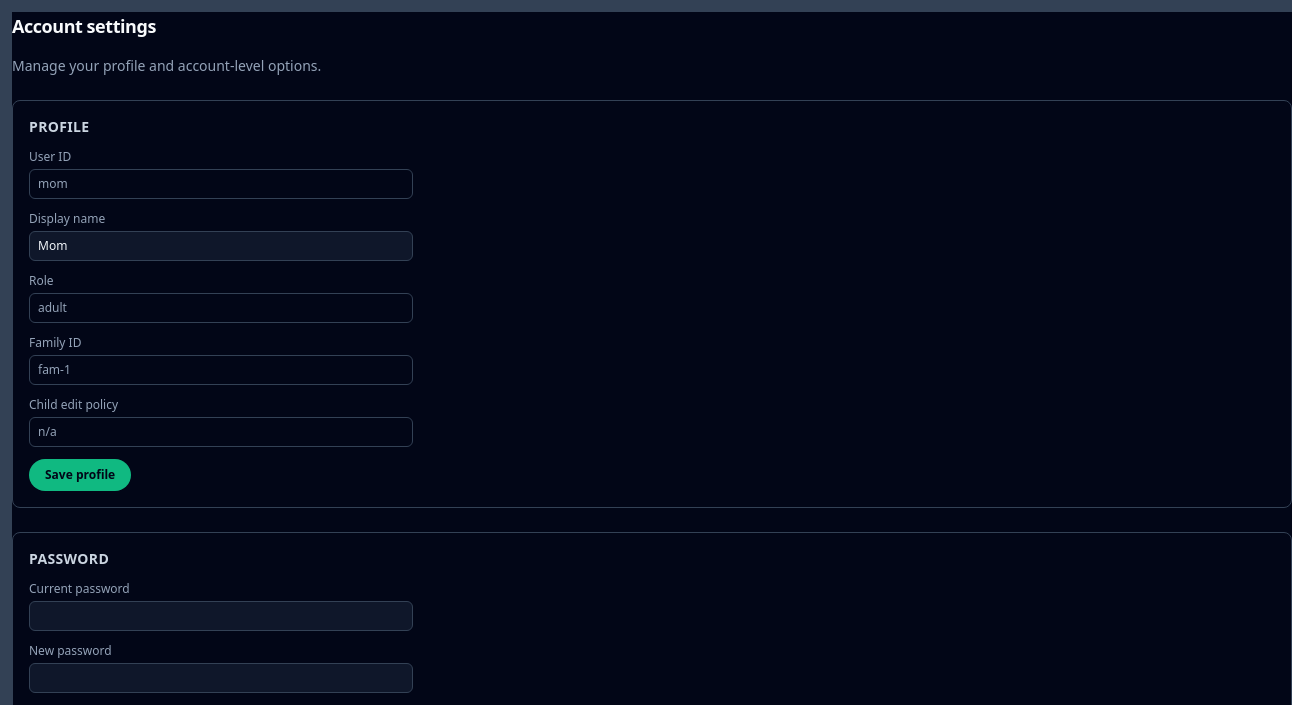
Scenario: AccountPage › saves profile updates
The width and height of the screenshot is (1292, 705).
Expected: the field showing "mom" is shown, [29,169,413,199]
Replace the text in the field labelled "Display name" with "Mama" at {"x": 221, "y": 246}, box [29,231,413,261]
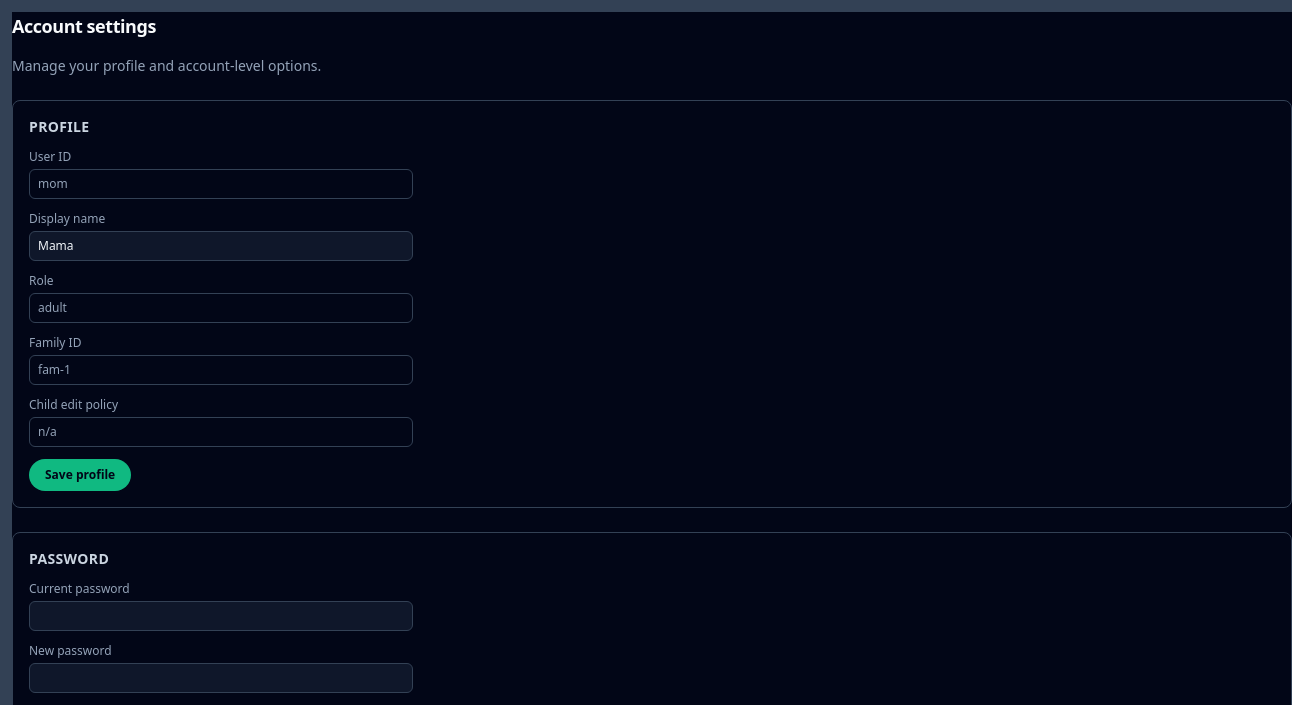
Click the button "Save profile" at {"x": 80, "y": 475}, box [29,459,131,491]
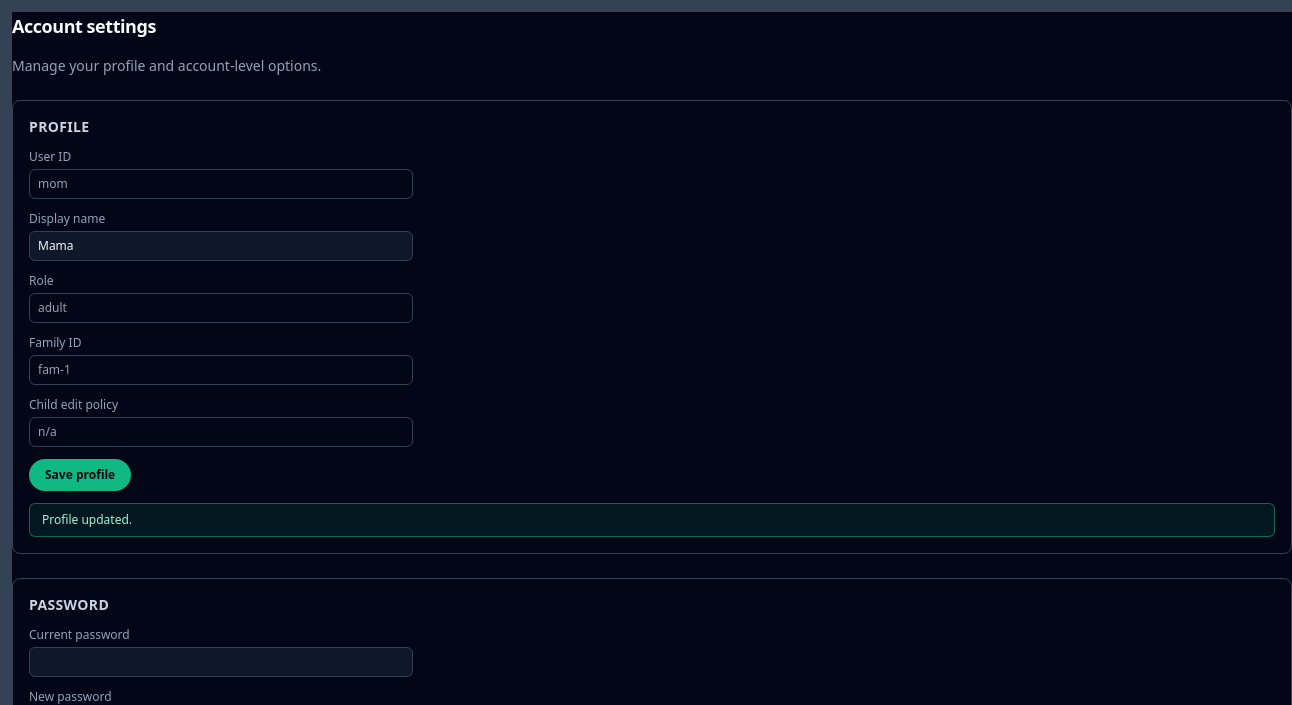
Now the text "Profile updated." is shown, box [29,503,1275,537]
